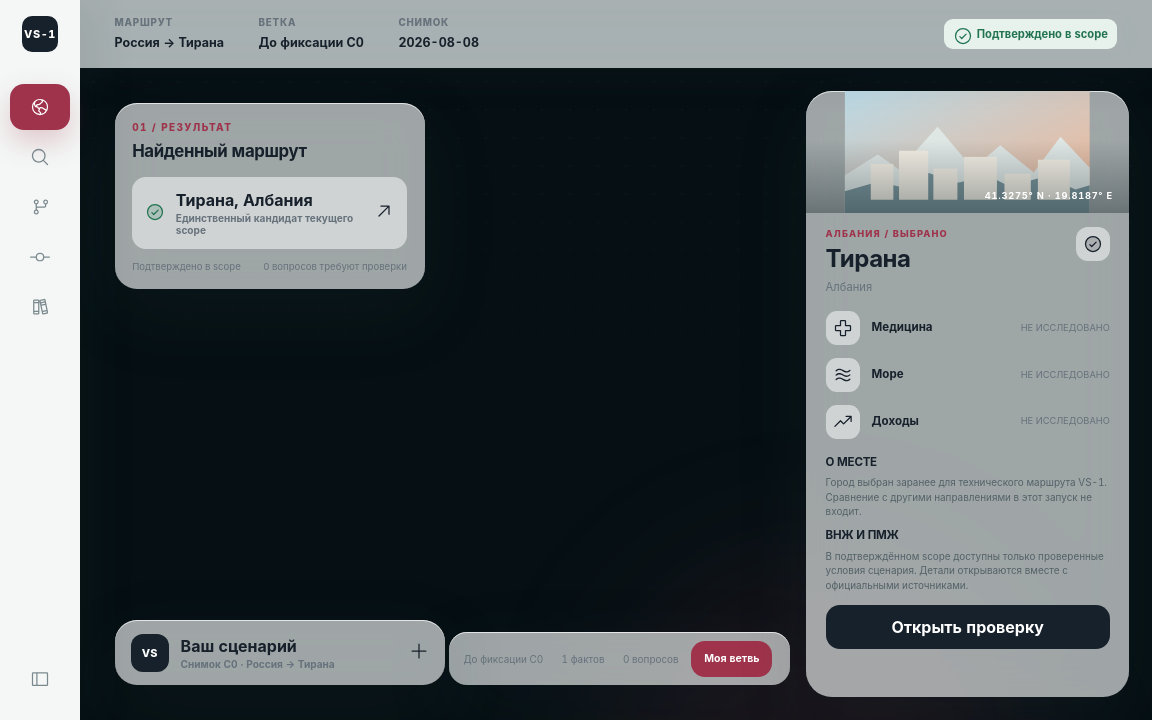
Test case: journey action pending states › opens Research from the Overview candidate check control
The width and height of the screenshot is (1152, 720).
Click the button "Открыть проверку". click: [968, 627]
box: left=826, top=605, right=1110, bottom=649
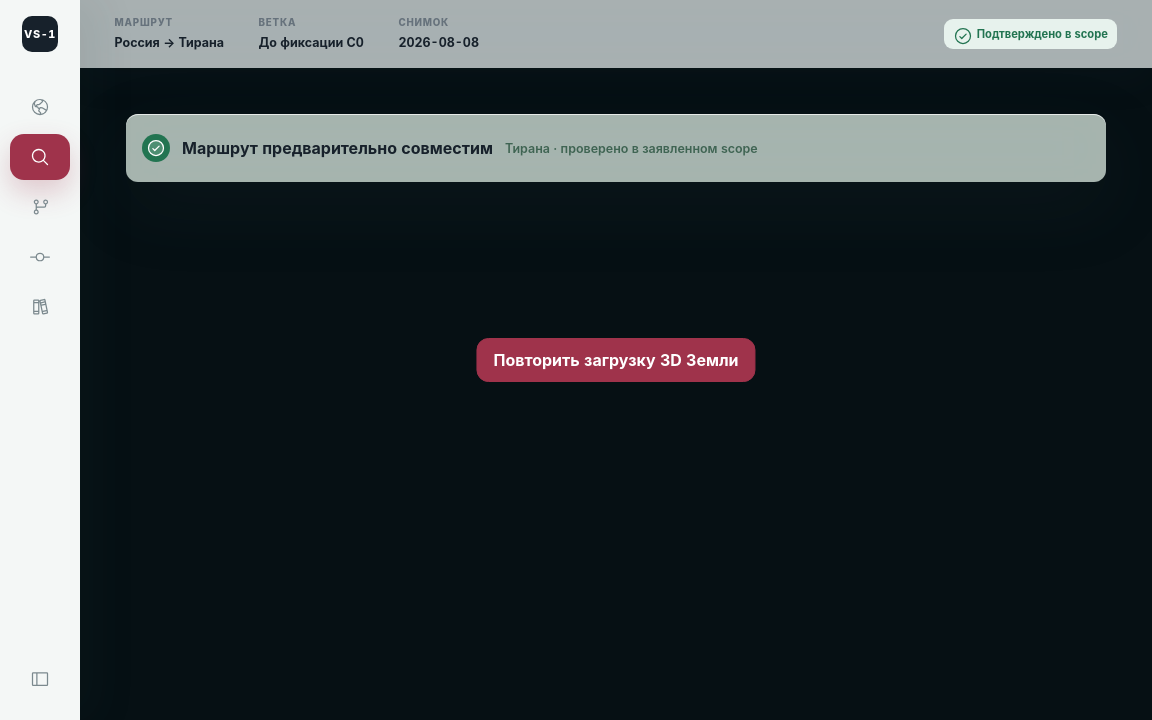
expect the element named "проверка маршрута" is shown: met, box left=126, top=114, right=1106, bottom=182
